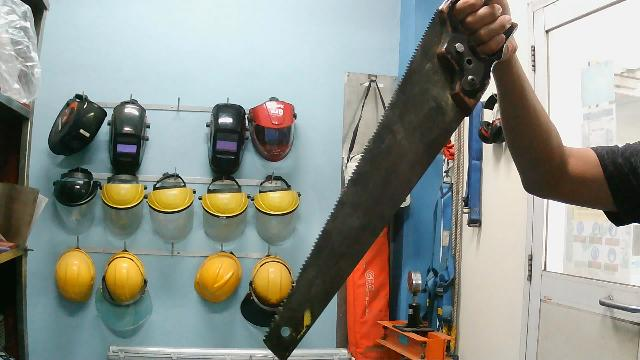gergaji_kayu: (237, 0, 552, 360)
